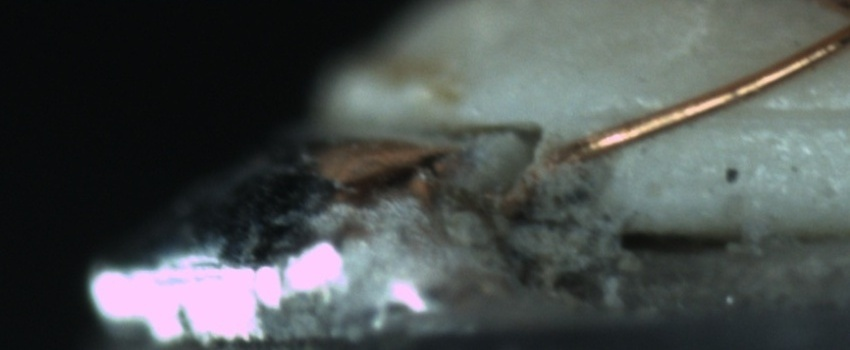DL: (691, 79, 847, 147)
